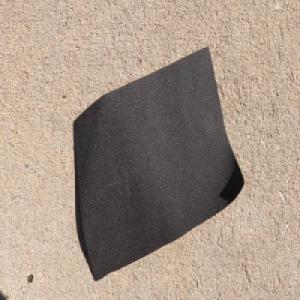PaintChip: (72, 45, 245, 283)
